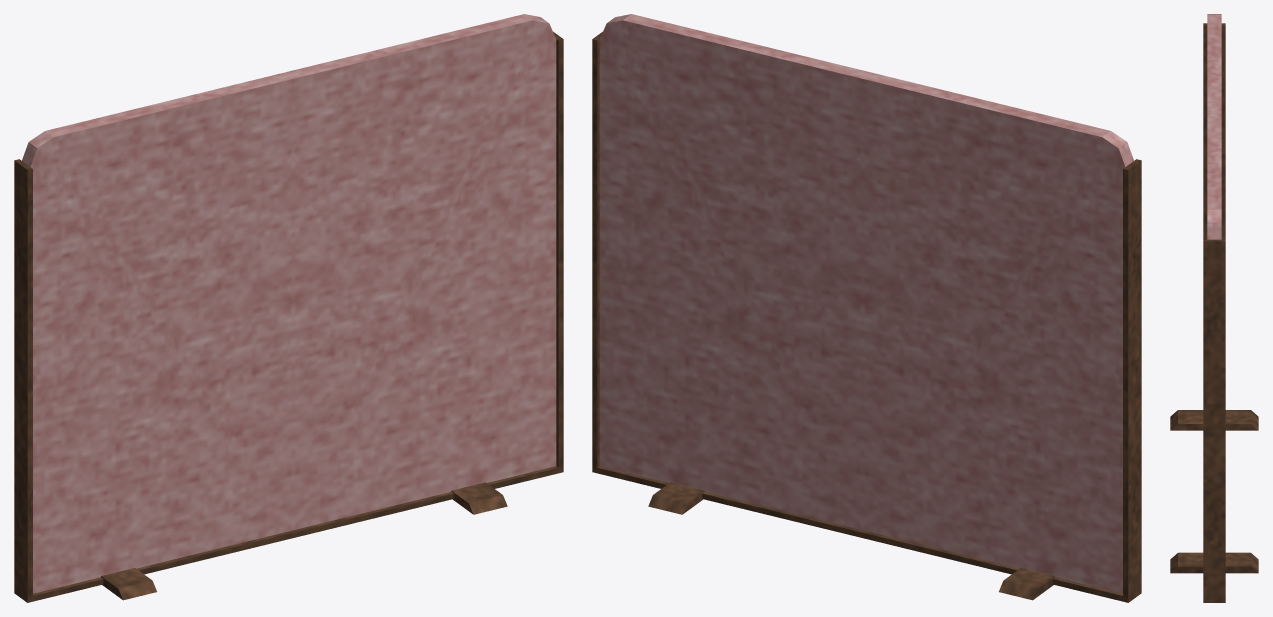
File: divider_wood_red.obj
The picture shows the model from 3 angles, left to right: view 1: azimuth 30°, elevation 25°; view 2: azimuth 150°, elevation 25°; view 3: azimuth 270°, elevation 25°; orthographic projection. The views are drawn at different scales.
Visible parts, largest first — view 1: divider_wood_red; view 2: divider_wood_red; view 3: divider_wood_red.
Boxes of the visible parts, x1=… form: divider_wood_red: x1=14, y1=14, x2=563, y2=602; divider_wood_red: x1=592, y1=14, x2=1141, y2=602; divider_wood_red: x1=1170, y1=14, x2=1258, y2=602.
Bounding box in the file's own units: 3.06 × 2.5 × 0.523.
